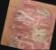plaque psoriasis: (3, 0, 56, 50)
